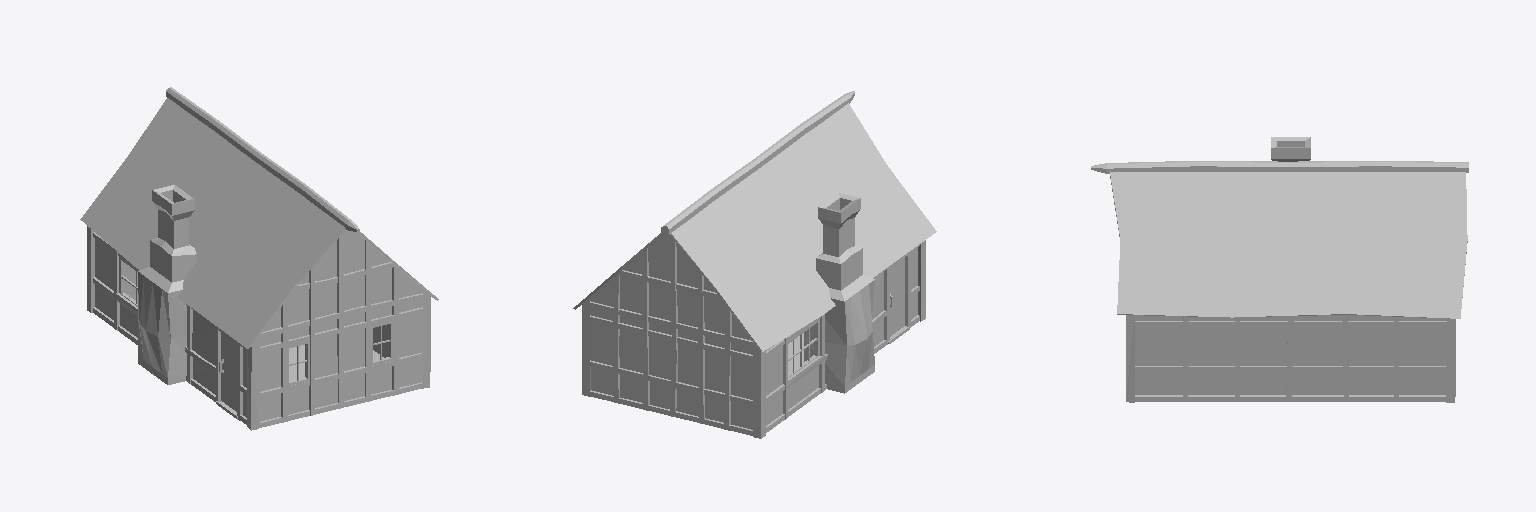
The model's file is house.obj.
3 renders of one model, left to right at view 1: azimuth 30°, elevation 25°; view 2: azimuth 150°, elevation 25°; view 3: azimuth 270°, elevation 25°, orthographic.
Visible parts, largest first — view 1: Medieval_house_1_Cube, Door_Plane; view 2: Medieval_house_1_Cube, Door_Plane; view 3: Medieval_house_1_Cube.
Boxes of the visible parts, box(x1,y1,x2,y2) form: Medieval_house_1_Cube: box(80, 87, 438, 430); Door_Plane: box(219, 333, 236, 411); Medieval_house_1_Cube: box(573, 91, 936, 438); Door_Plane: box(890, 258, 904, 336); Medieval_house_1_Cube: box(1091, 137, 1468, 402).
Size of the model in its own units: 5.93 by 5.35 by 9.27.